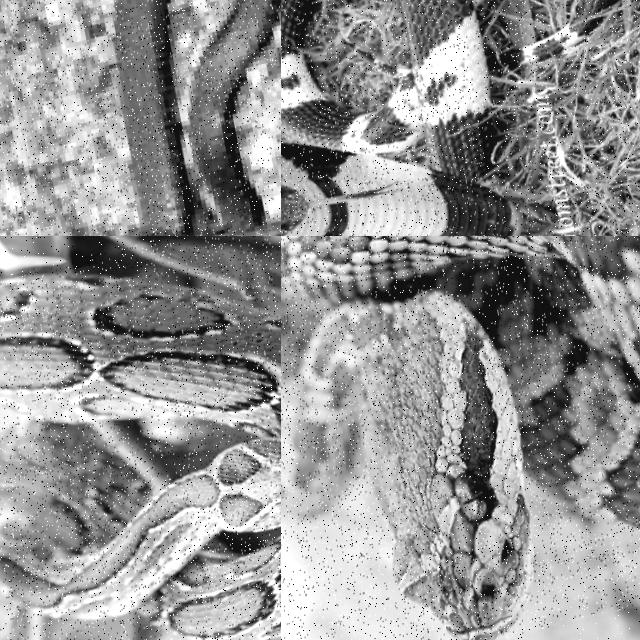Daboia siamensis: (281, 236, 639, 639), (0, 274, 280, 639)
Naja kaouthia: (114, 0, 280, 235)
Naja siamensis: (281, 0, 521, 235)
snake: (281, 236, 639, 639), (0, 274, 280, 639), (281, 0, 521, 235), (114, 0, 280, 235)
